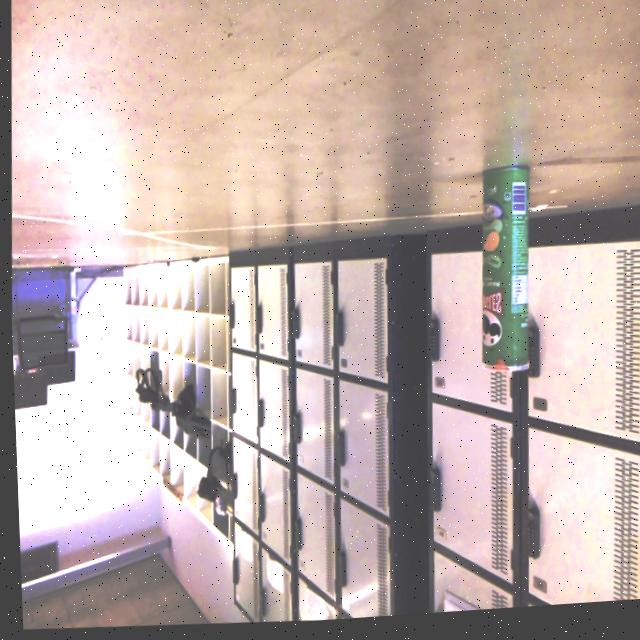greenpringles: (454, 152, 549, 399)
